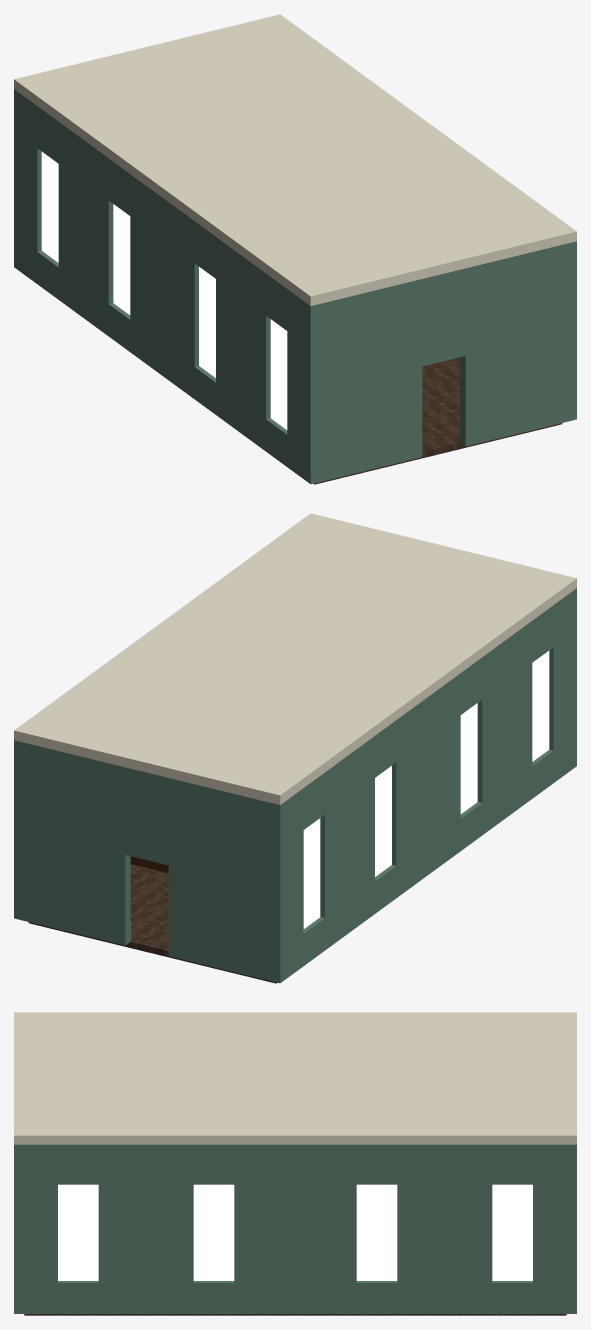
File: munal_gallery_sections.glb
3 views of the same model, one above another, from view 1: azimuth 30°, elevation 25°; view 2: azimuth 150°, elevation 25°; view 3: azimuth 270°, elevation 25° (orthographic). The views are drawn at different scales.
Visible parts, largest first — view 1: Architecture_Room; view 2: Architecture_Room; view 3: Architecture_Room.
Boxes of the visible parts, x1,y1,x2,y2 form: Architecture_Room: (14,14,576,484); Architecture_Room: (14,513,576,983); Architecture_Room: (14,1012,576,1315).
Size of what is drawn, in the model's own units: 8.6 by 6 by 16.6.
Materials: 15 (9 with a texture image).
